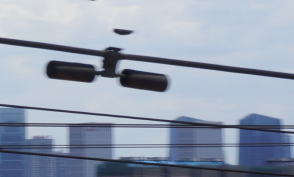damper: (44, 44, 170, 92)
